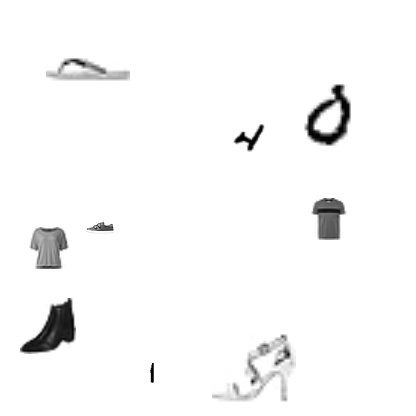0: (287, 76, 371, 160)
1: (138, 359, 166, 387)
4: (228, 117, 270, 159)
Ankle_boot: (20, 298, 76, 354)
Sandal: (212, 326, 296, 410), (46, 26, 130, 110)
Sneaker: (86, 213, 114, 241)
T-shirt/top: (307, 198, 349, 240), (28, 227, 70, 269)
